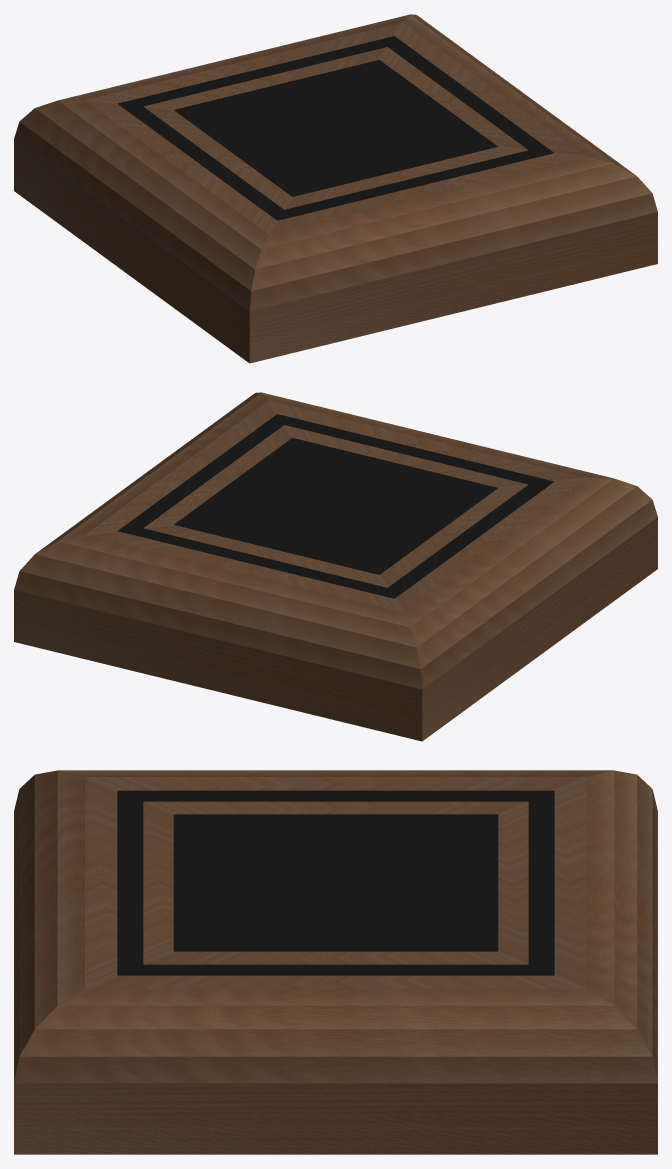
Rendered from BossDarkPiece.fbx.
3 renders of one model, top to bottom at view 1: azimuth 30°, elevation 25°; view 2: azimuth 150°, elevation 25°; view 3: azimuth 270°, elevation 25°, orthographic. The views are drawn at different scales.
Visible parts, largest first — view 1: BossDarkPiece; view 2: BossDarkPiece; view 3: BossDarkPiece.
Part boxes in pixels (x1,y1,x2,y2): BossDarkPiece: (14, 14, 657, 363); BossDarkPiece: (14, 392, 657, 741); BossDarkPiece: (14, 770, 657, 1154).
Bounding box in the file's own units: 200 × 46.39 × 200.
